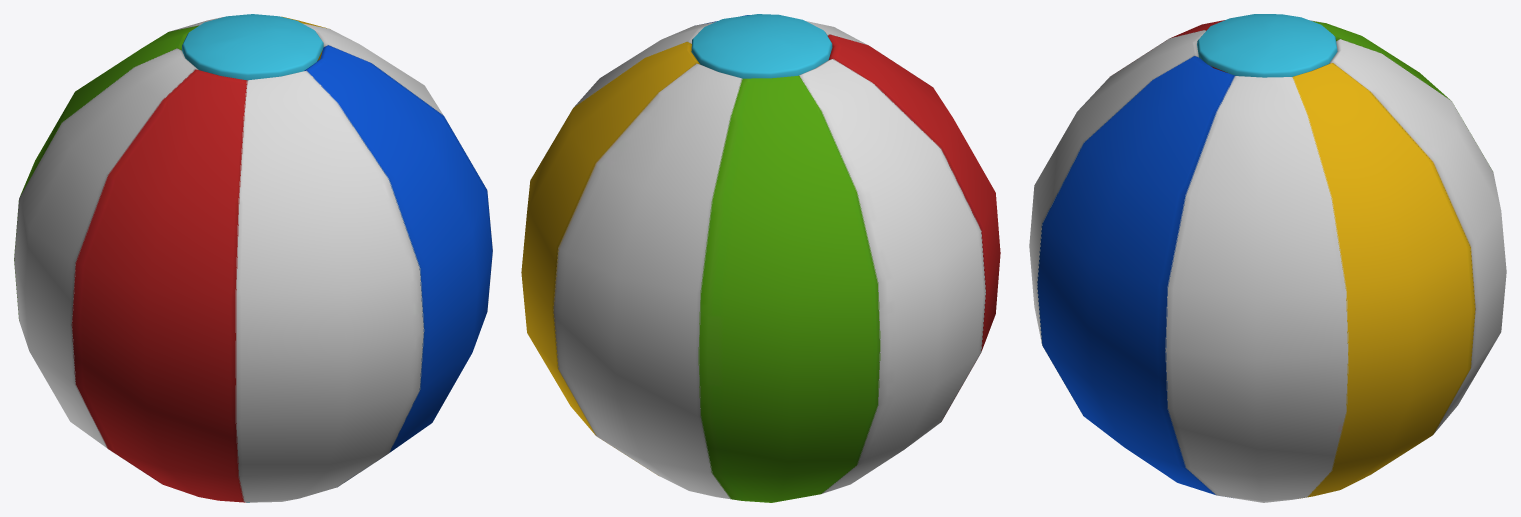
File: 0-beachball.fbx
The picture shows the model from 3 angles, left to right: view 1: azimuth 30°, elevation 25°; view 2: azimuth 150°, elevation 25°; view 3: azimuth 270°, elevation 25°; orthographic projection.
Parts seen in each view (by area): view 1: 0-beachball; view 2: 0-beachball; view 3: 0-beachball.
Part boxes in pixels (x1,y1,x2,y2): 0-beachball: [14, 14, 492, 502]; 0-beachball: [521, 14, 1000, 502]; 0-beachball: [1029, 14, 1506, 502].
Size of the model in its own units: 94.19 by 97.62 by 94.48.
